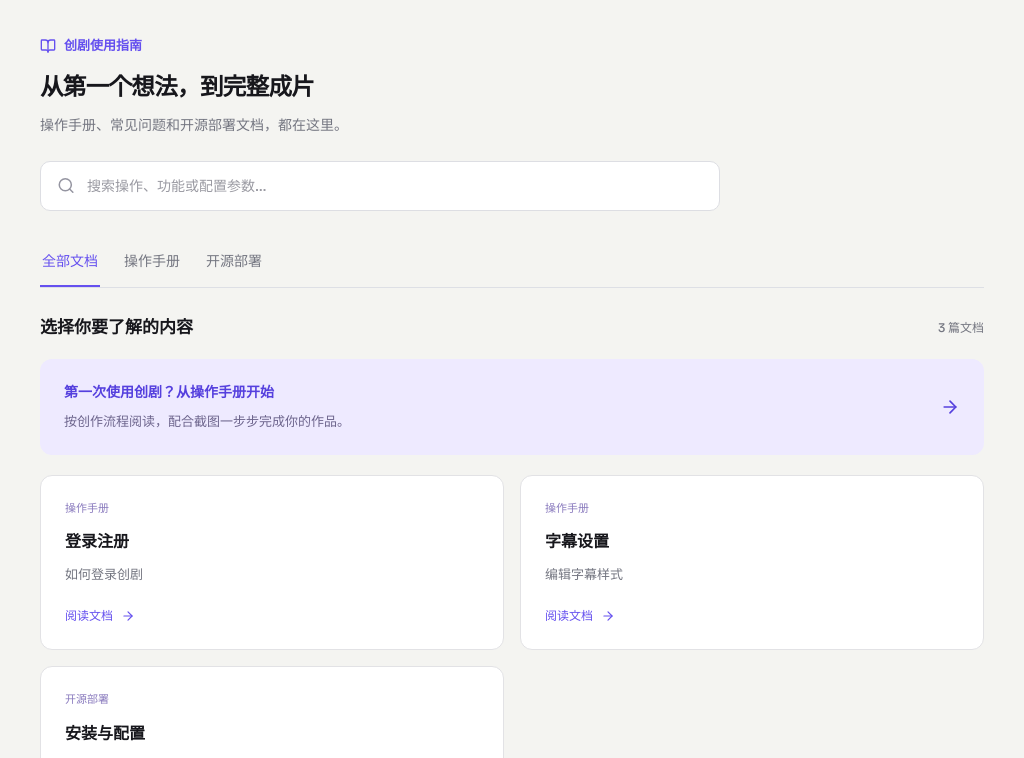
Test: Chinese help center › loads static content only and searches full body with category filters
Check: the text "3 篇文档" is shown, box [938, 318, 984, 338]
Type "透明度" into the field named "搜索帮助文档".
click(395, 186); type("透明度")  # box [87, 162, 703, 210]
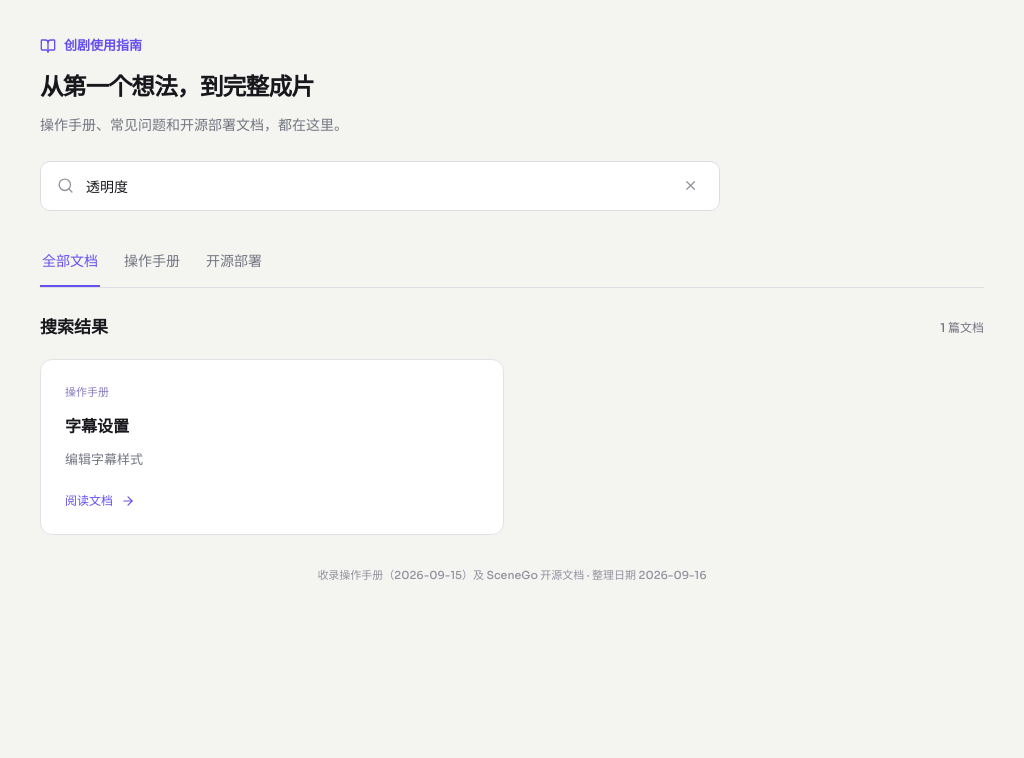
Check: the link "操作手册 字幕设置 编辑字幕样式 阅读文档" is shown, box [40, 359, 504, 535]
Check: the text "1 篇文档" is shown, box [940, 318, 984, 338]
Check: the link "安装与配置" is gone
Click the button named "清空搜索".
click(690, 186)  # box [678, 172, 703, 199]
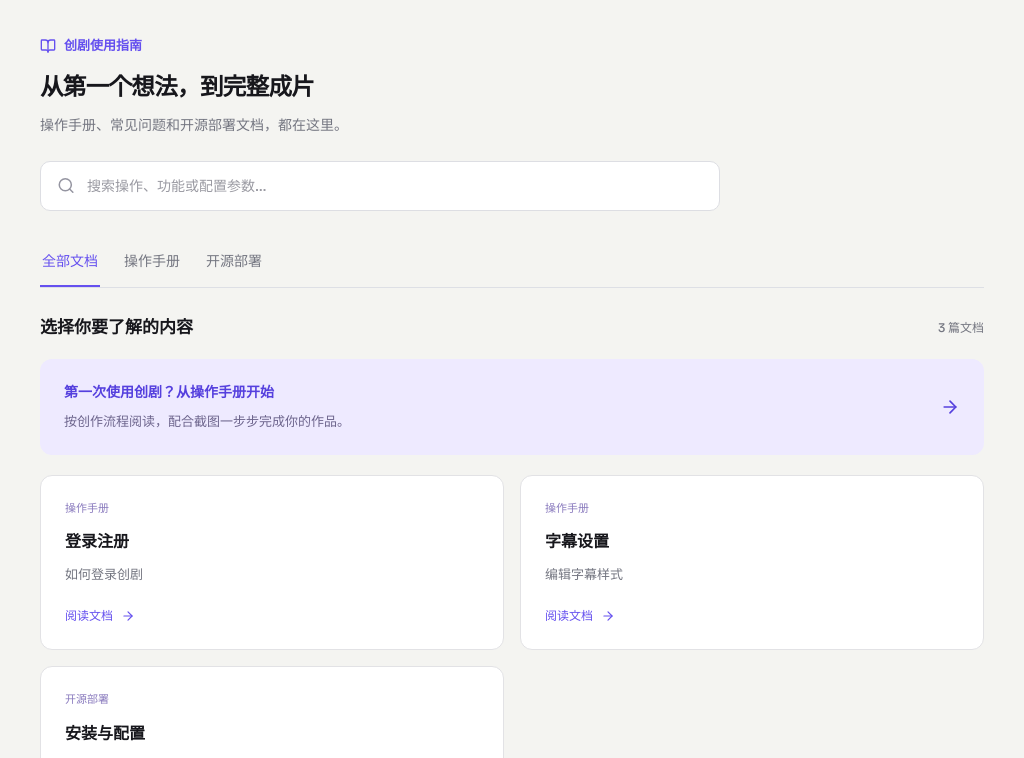
Click the link "开源部署".
click(234, 261)  # box [206, 252, 262, 270]
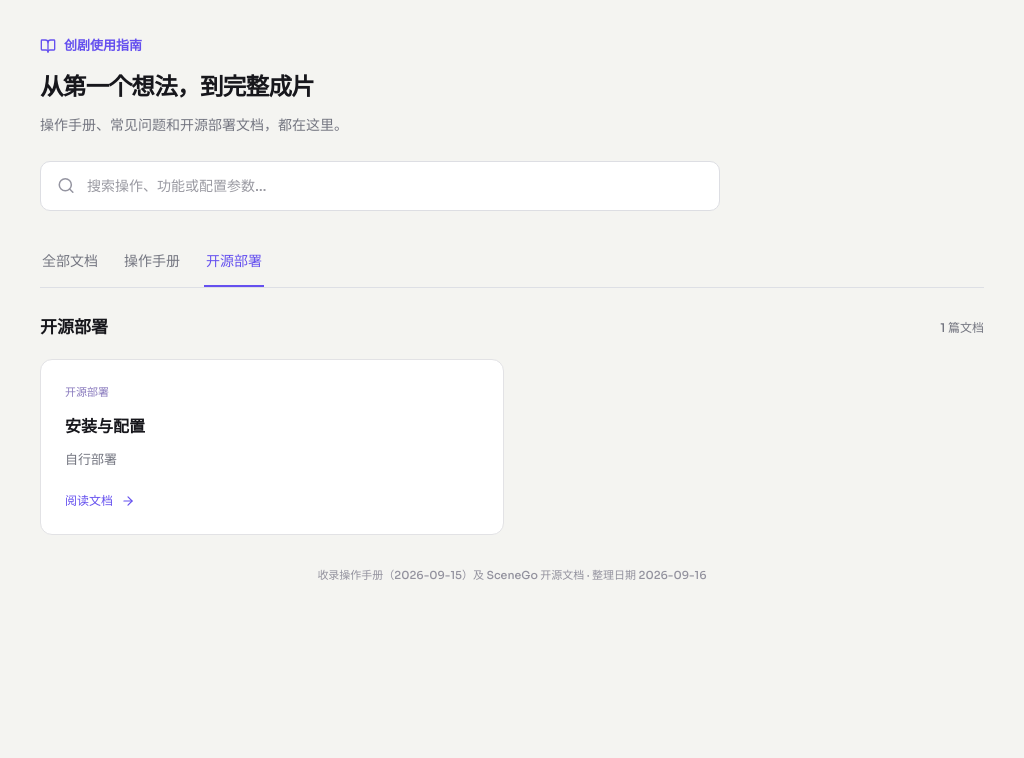
Check: the link "开源部署 安装与配置 自行部署 阅读文档" is shown, box [40, 359, 504, 535]
Check: the text "1 篇文档" is shown, box [940, 318, 984, 338]
